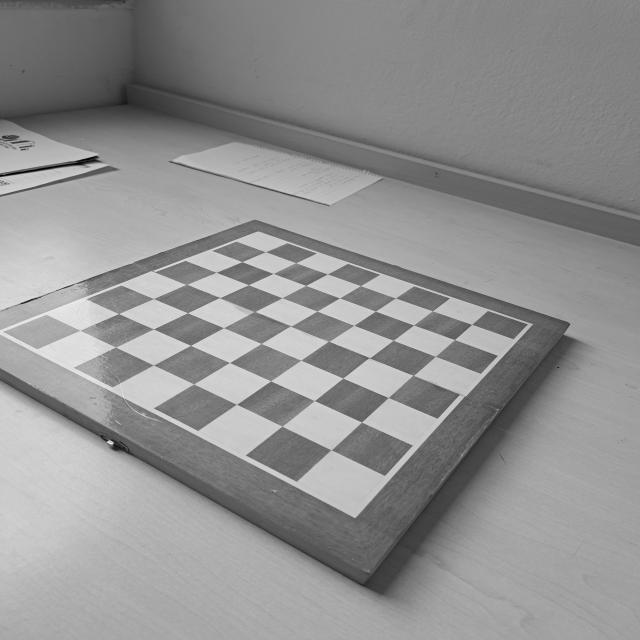chess-table-corners: (333, 496, 372, 524), (518, 318, 536, 331), (252, 228, 266, 238)
